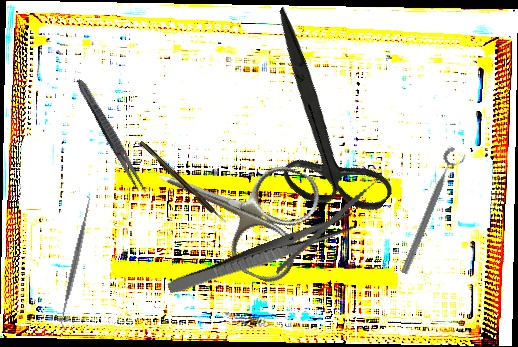Chopper: (275, 155, 391, 297)
Dressing Forceps: (165, 210, 359, 300), (73, 76, 150, 197)
Fixation Ring: (397, 145, 468, 279)
Hook Surgical: (138, 139, 228, 226)
Iris Scissors: (197, 6, 442, 240), (137, 122, 327, 289)
Spatula Surgical: (53, 195, 98, 330)
